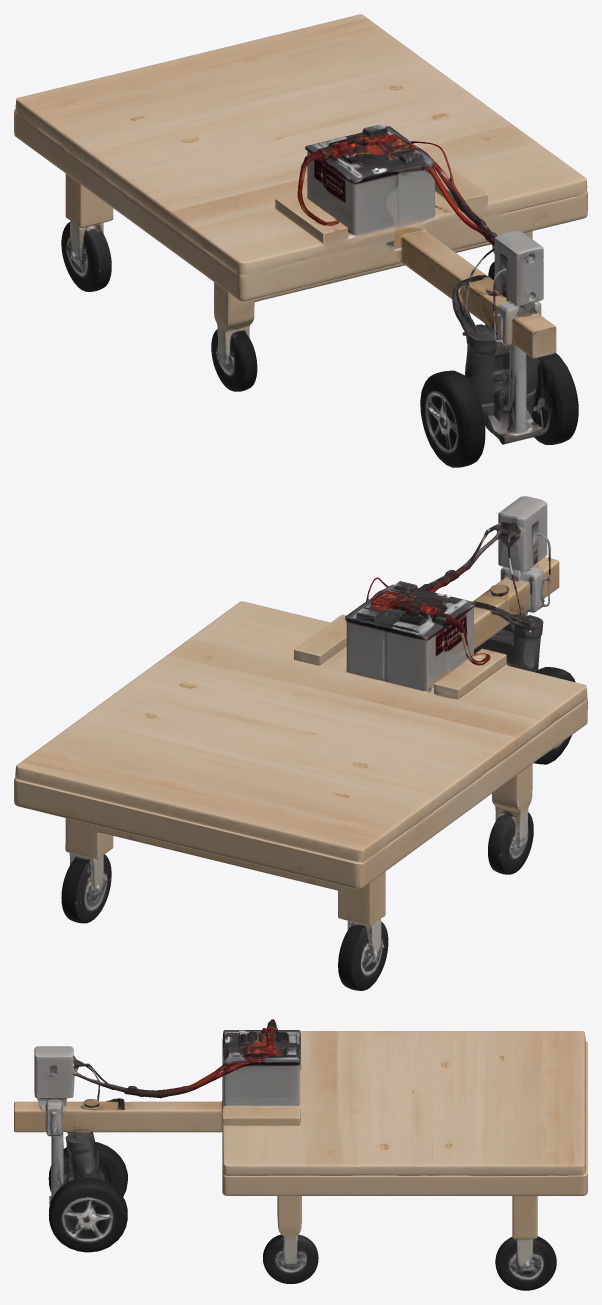
File: trailer-jack.glb
3 views of the same model, one above another, from view 1: azimuth 30°, elevation 25°; view 2: azimuth 150°, elevation 25°; view 3: azimuth 270°, elevation 25° (orthographic). The views are drawn at different scales.
Parts seen in each view (by area): view 1: model; view 2: model; view 3: model.
Part boxes in pixels (bbox=[...]): model: bbox=[14, 14, 587, 467]; model: bbox=[14, 496, 587, 990]; model: bbox=[14, 1019, 587, 1290].
Bounding box in the file's own units: 1.06 × 0.705 × 1.9.
Materials: 1 (1 with a texture image).
